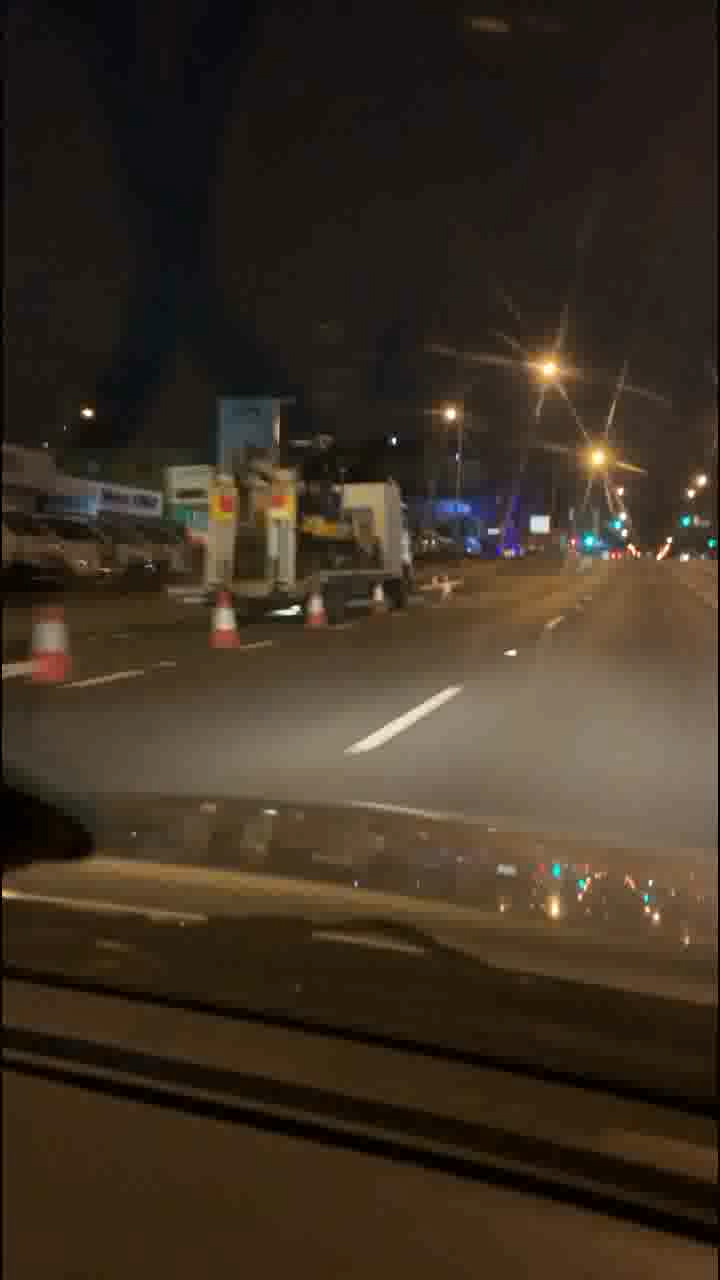truck: (187, 441, 451, 600)
